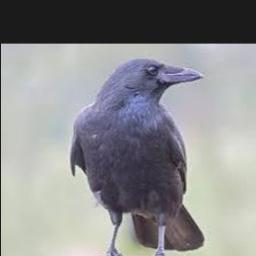Crow: (71, 58, 206, 256)
